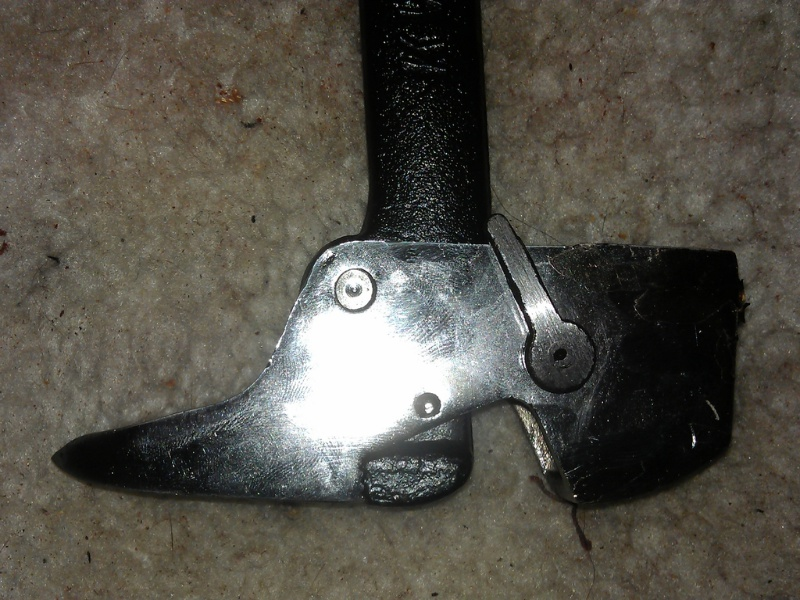axe: (35, 147, 761, 533)
